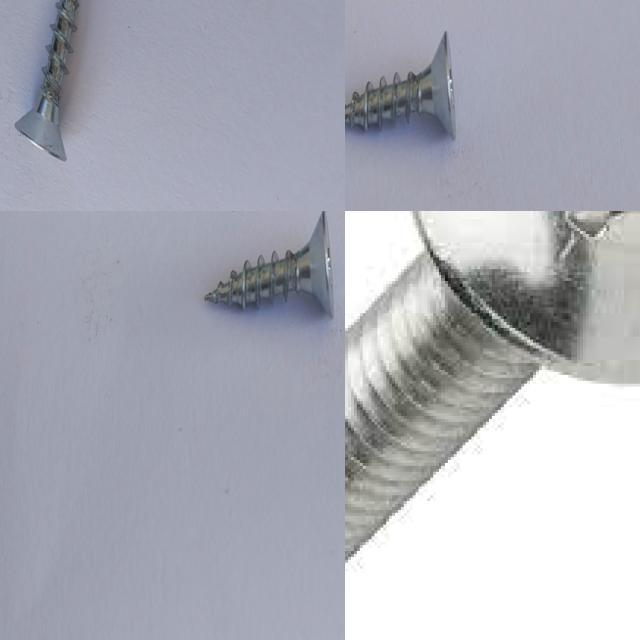Screw: (345, 211, 640, 568), (204, 211, 334, 317), (345, 30, 456, 138), (15, 0, 78, 161)
